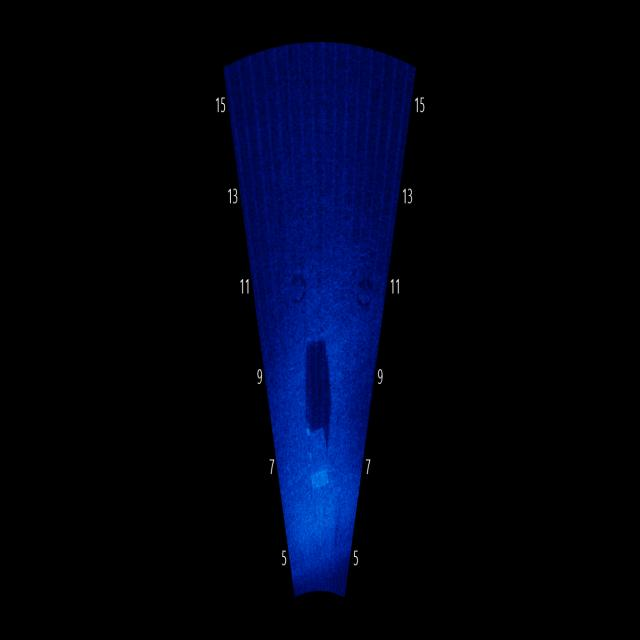square: (298, 395, 341, 504)
